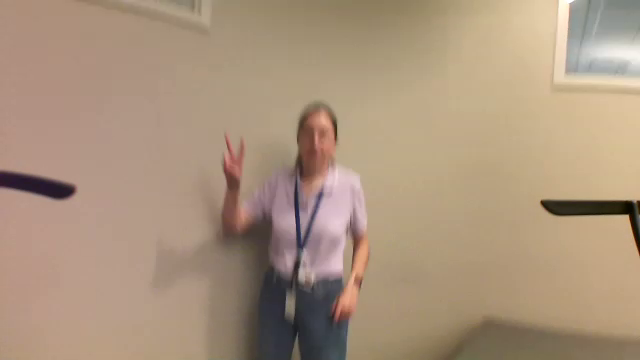peace: (219, 129, 247, 179)
